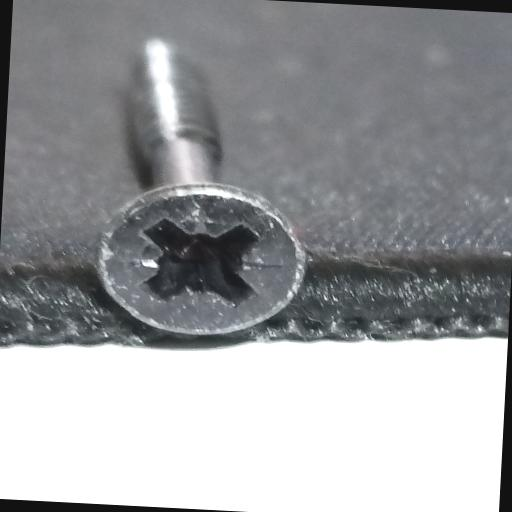Pozidriv: (80, 170, 316, 361)
